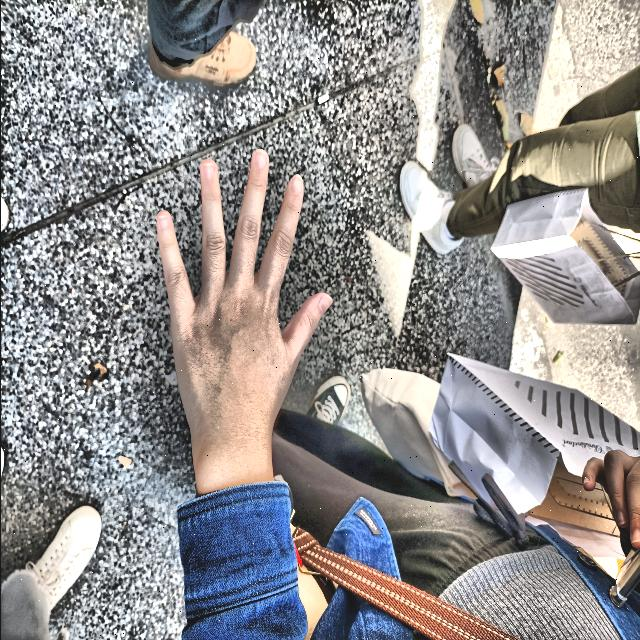not-gloved: (137, 131, 345, 502)
